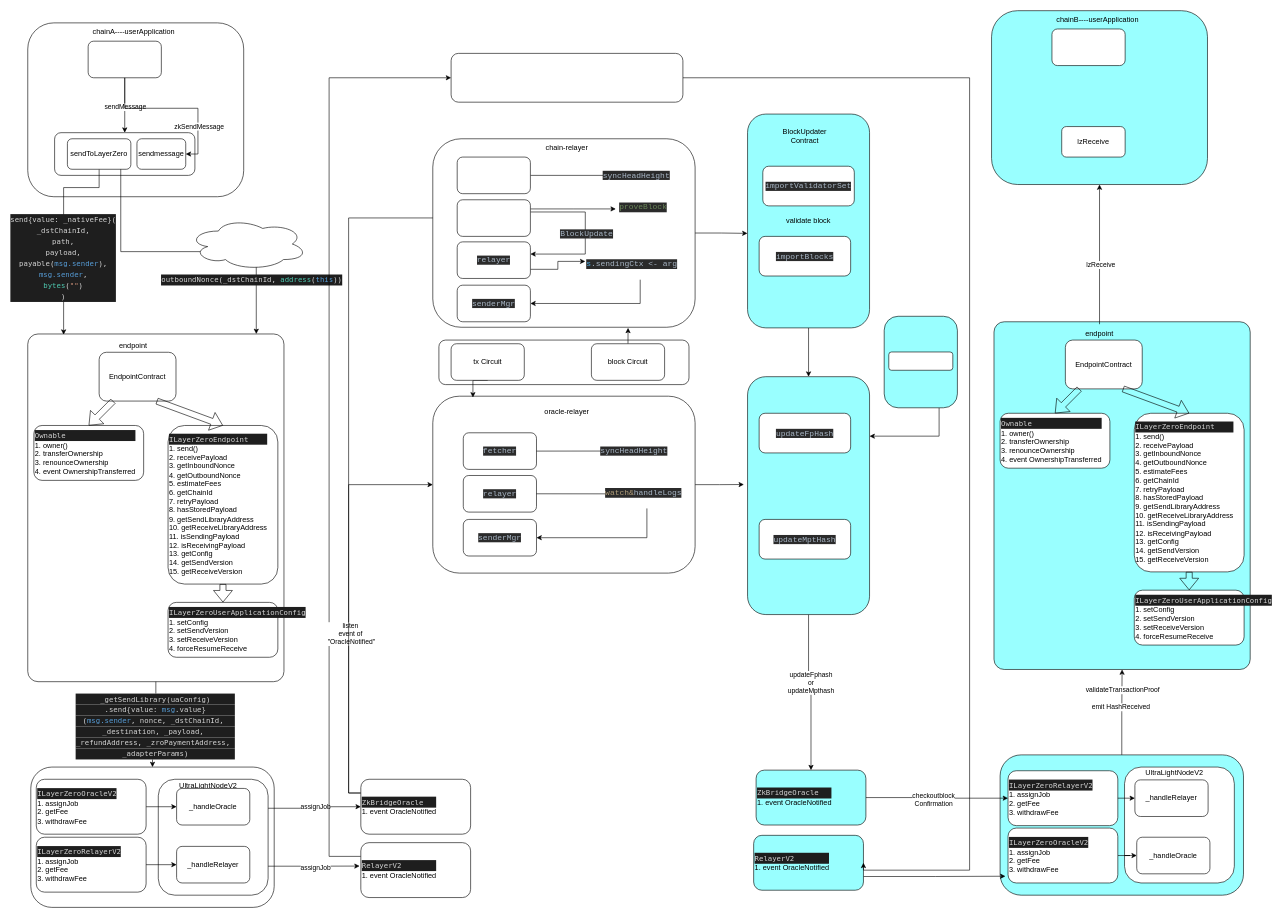
The diagram is 1283 pixels wide and 918 high, and some of its shapes have lost their labels. Here are the shapes that lost their labels. From the top down, the centre of each, then its label:
At point (124, 59): "lzmailer".
At point (1088, 47): "lzmailerbox".
At point (566, 77): "LayerZero Relayer".
At point (493, 175): "blockfetcher".
At point (493, 217): "watcher".
At point (247, 243): "dstChainId: lzchainid address(this): lzmailer_addr".
At point (920, 360): "zkmptvalidator".
